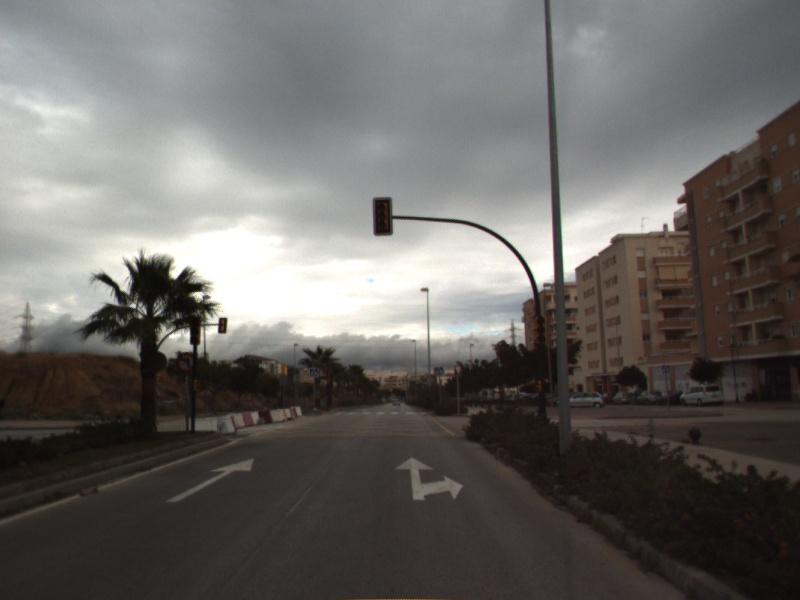STRAIGHT: (164, 456, 256, 504)
STRAIGHT_RIGHT: (393, 455, 465, 502)
